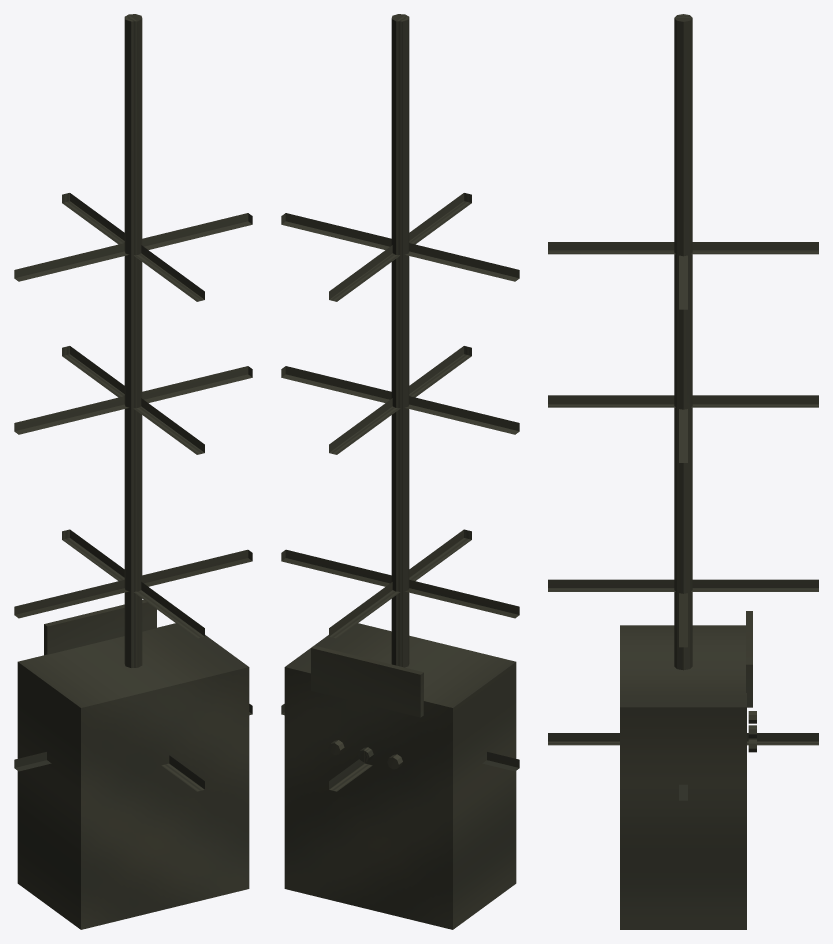
Rendered from env_antenna_mast_small_a.glb.
The picture shows the model from 3 angles, left to right: view 1: azimuth 30°, elevation 25°; view 2: azimuth 150°, elevation 25°; view 3: azimuth 270°, elevation 25°; orthographic projection.
Parts seen in each view (by area): view 1: env_antenna_mast_small_a; view 2: env_antenna_mast_small_a; view 3: env_antenna_mast_small_a.
Part boxes in pixels (x1=…): env_antenna_mast_small_a: x1=14, y1=14, x2=252, y2=929; env_antenna_mast_small_a: x1=281, y1=14, x2=519, y2=929; env_antenna_mast_small_a: x1=548, y1=14, x2=818, y2=929.
Size of the model in its own units: 1.6 by 5.7 by 1.6.
Materials: 1 (1 with a texture image).
